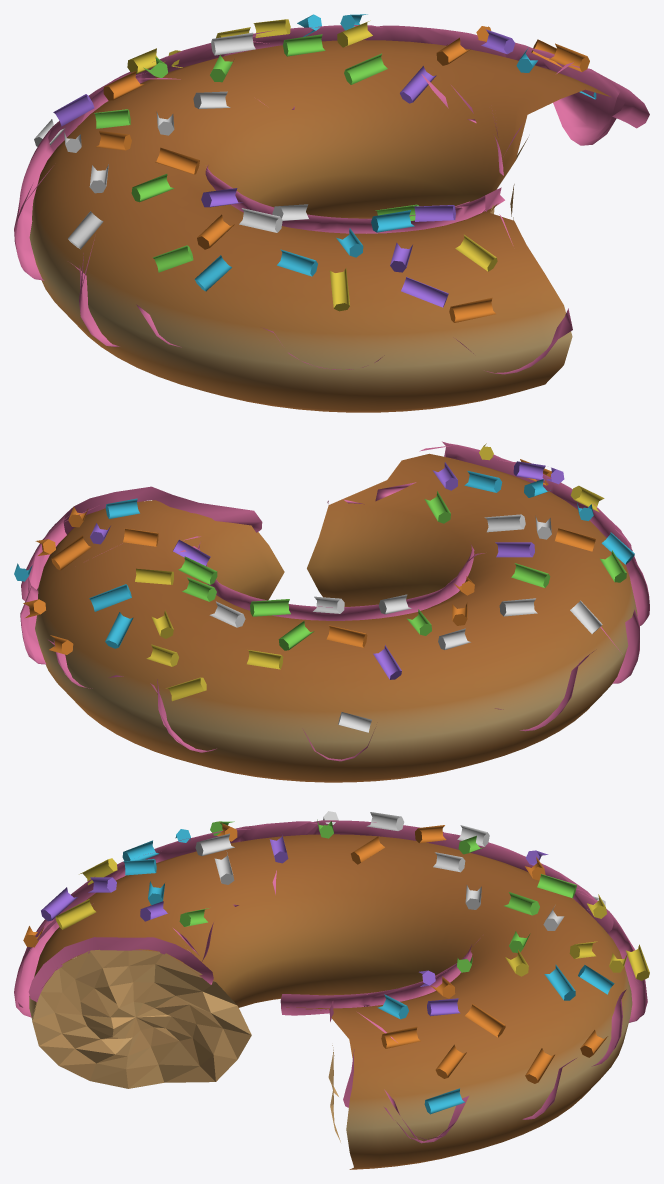
File: donut.glb
The picture shows the model from 3 angles, top to bottom: view 1: azimuth 30°, elevation 25°; view 2: azimuth 150°, elevation 25°; view 3: azimuth 270°, elevation 25°; orthographic projection. The views are drawn at different scales.
Visible parts, largest first — view 1: donut; view 2: donut; view 3: donut.
Boxes of the visible parts, left/top/right/bottom form: donut: left=14, top=14, right=649, bottom=412; donut: left=14, top=441, right=649, bottom=782; donut: left=14, top=811, right=649, bottom=1169.
Size of the model in its own units: 3.01 by 0.868 by 3.08.
